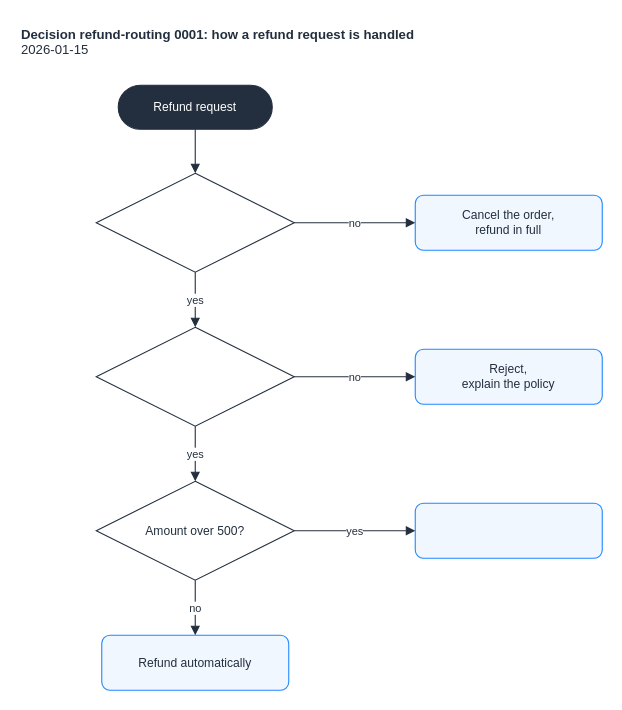
Some shapes in this 622 by 710 pixel diagram are drawn without their labels. Here are the shapes that lost their labels. From the top down, the centre of each, then its label:
At [194,222]: "Order delivered?".
At [194,376]: "Within 30 days of delivery?".
At [508,530]: "Send to manual review".
